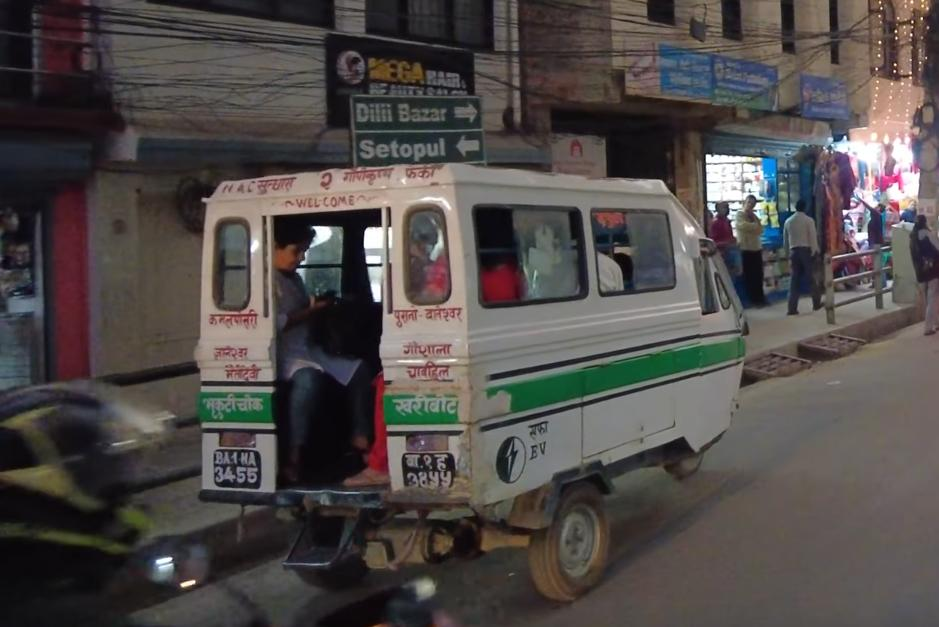tempo: (184, 164, 753, 612)
